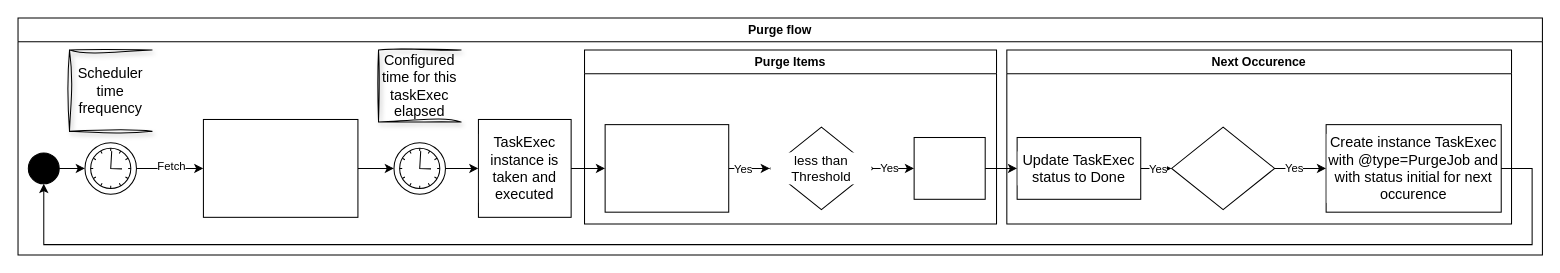
This 1560x273 diagram has some shape labels left out. The centre of each missing label's shape, as x and y in pixels:
Check if there is records to purge following defined rules: point (666, 168)
have more configured time: point (1223, 168)
Purge Records: point (949, 167)
TaskExec with "@type"="PurgeJob" and status=initial exits: point (280, 167)
